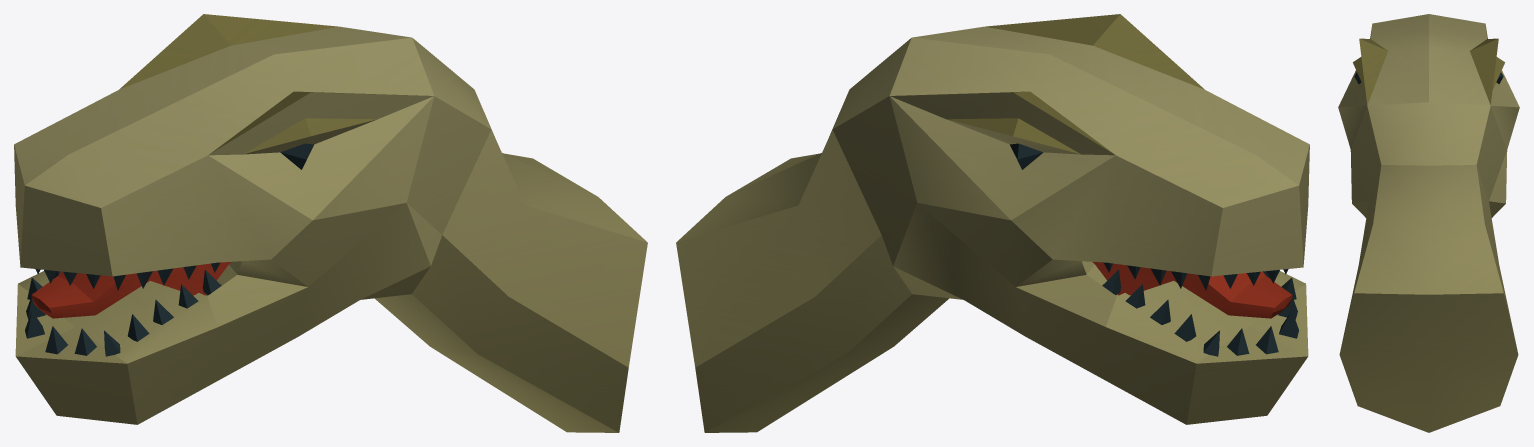
File: Rex_head.fbx
3 renders of one model, left to right at view 1: azimuth 30°, elevation 25°; view 2: azimuth 150°, elevation 25°; view 3: azimuth 270°, elevation 25°, orthographic. The views are drawn at different scales.
Parts seen in each view (by area): view 1: Rex_head; view 2: Rex_head; view 3: Rex_head.
Boxes of the visible parts, bbox=[...] form: Rex_head: bbox=[14, 14, 647, 432]; Rex_head: bbox=[676, 14, 1309, 432]; Rex_head: bbox=[1338, 14, 1519, 432].
Bounding box in the file's own units: 62.93 × 46.91 × 26.1.
